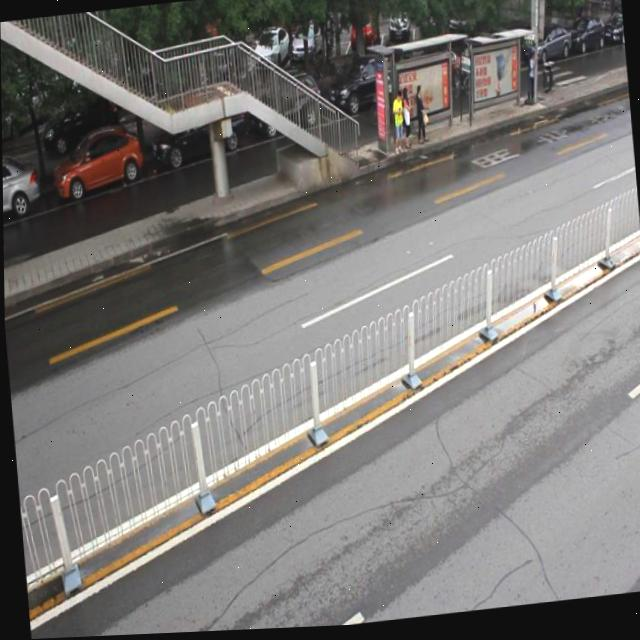car: (149, 90, 249, 168), (50, 125, 145, 201), (249, 71, 323, 142), (330, 53, 406, 120), (2, 152, 42, 221)
